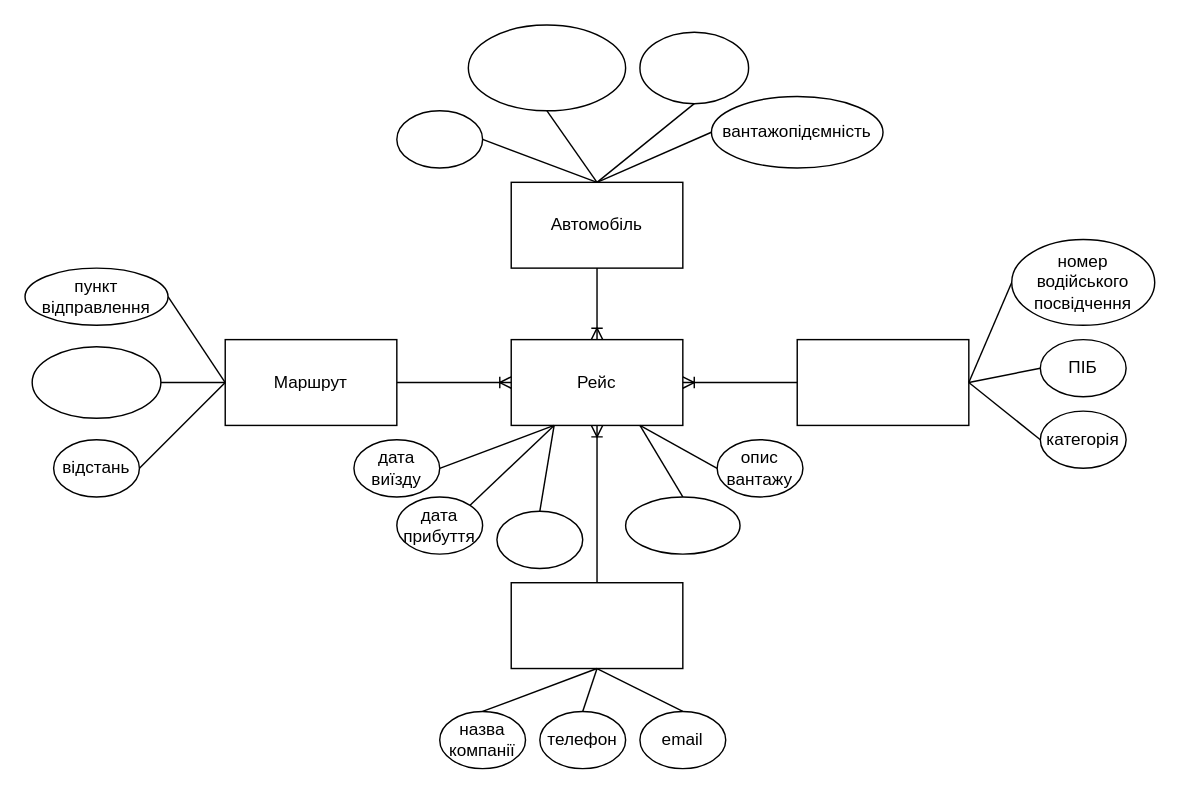
The diagram is 1180 pixels wide and 794 high, and some of its shapes have lost their labels. The centre of each missing label's shape, as x and y in pixels:
"VIN" goes at pixel 439 138.
"вага вантажу" goes at pixel 539 539.
"Водій" goes at pixel 882 381.
"дата повернення" goes at pixel 682 524.
"Клієнт" goes at pixel 596 625.
"марка автомобіля" goes at pixel 693 67.
"пункт призначення" goes at pixel 96 381.
"реєстраційний номер автомобіля" goes at pixel 546 67.
